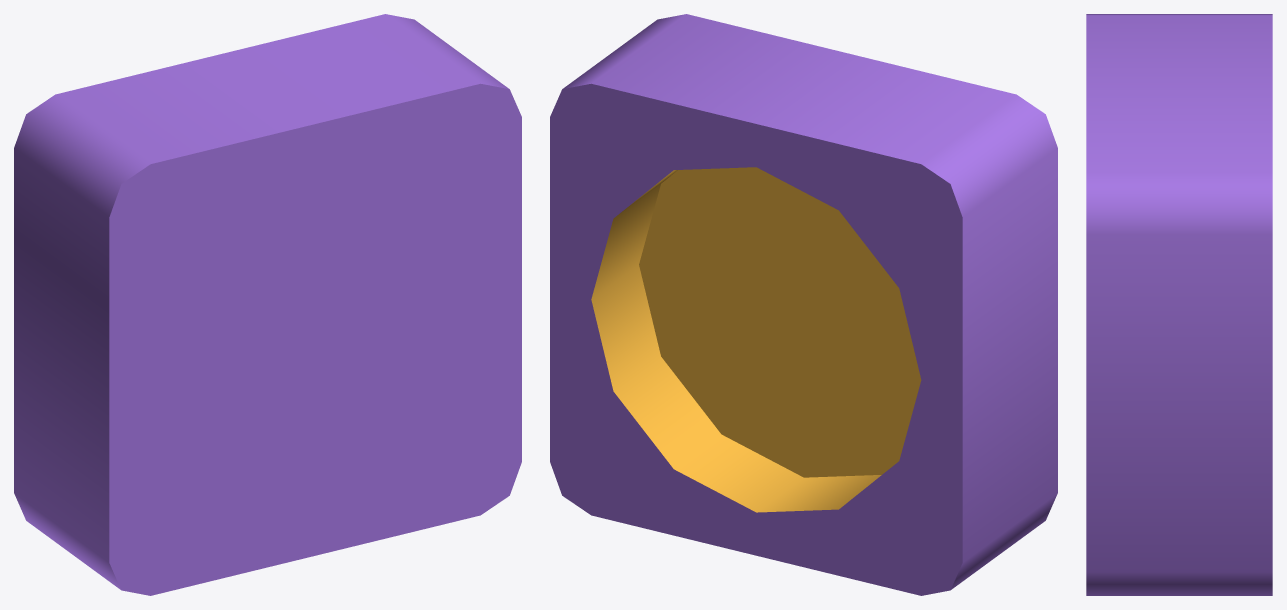
Rendered from fan-standing-two-col.glb.
3 views of the same model, side by side, from view 1: azimuth 30°, elevation 25°; view 2: azimuth 150°, elevation 25°; view 3: azimuth 270°, elevation 25° (orthographic). The views are drawn at different scales.
Visible parts, largest first — view 1: fan-standing-two-col; view 2: fan-standing-two-col; view 3: fan-standing-two-col.
Boxes of the visible parts, x1,y1,x2,y2 form: fan-standing-two-col: (14,14,521,595); fan-standing-two-col: (550,14,1057,595); fan-standing-two-col: (1086,14,1272,595).
Size of the model in its own units: 1 by 1 by 0.4.
Materials: 1 (1 with a texture image).
